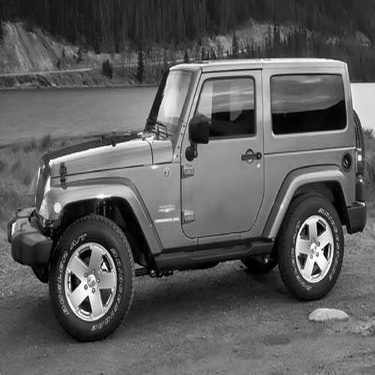car: (4, 43, 367, 342)
